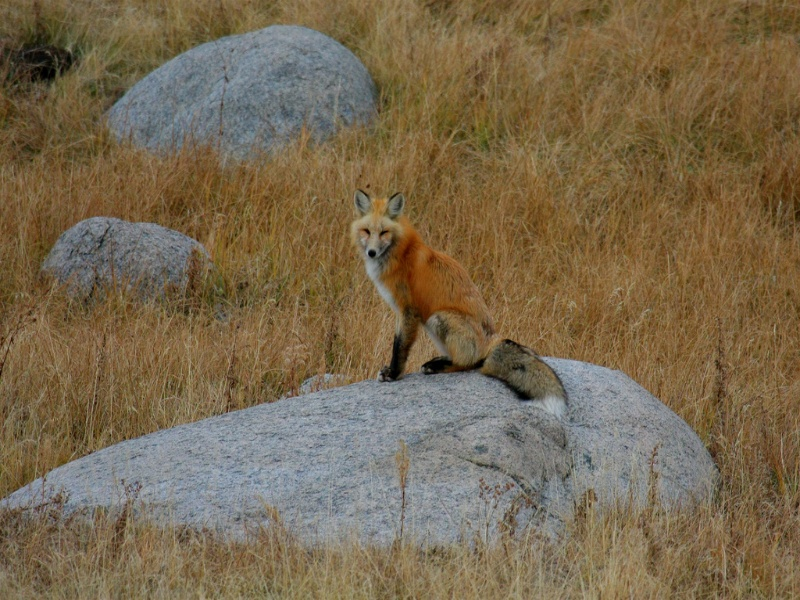fox: (351, 190, 570, 416)
